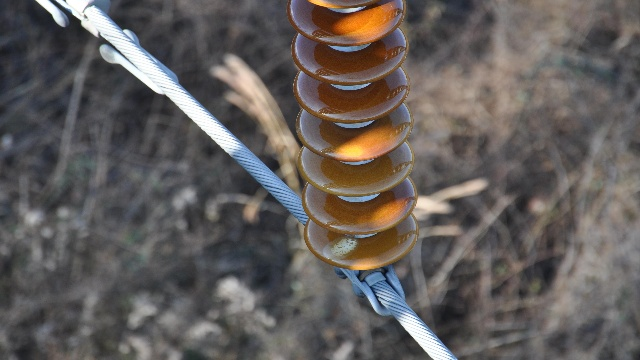insulator_unspecified: (287, 0, 419, 269)
pollution_flashover_local: (320, 235, 358, 260)
